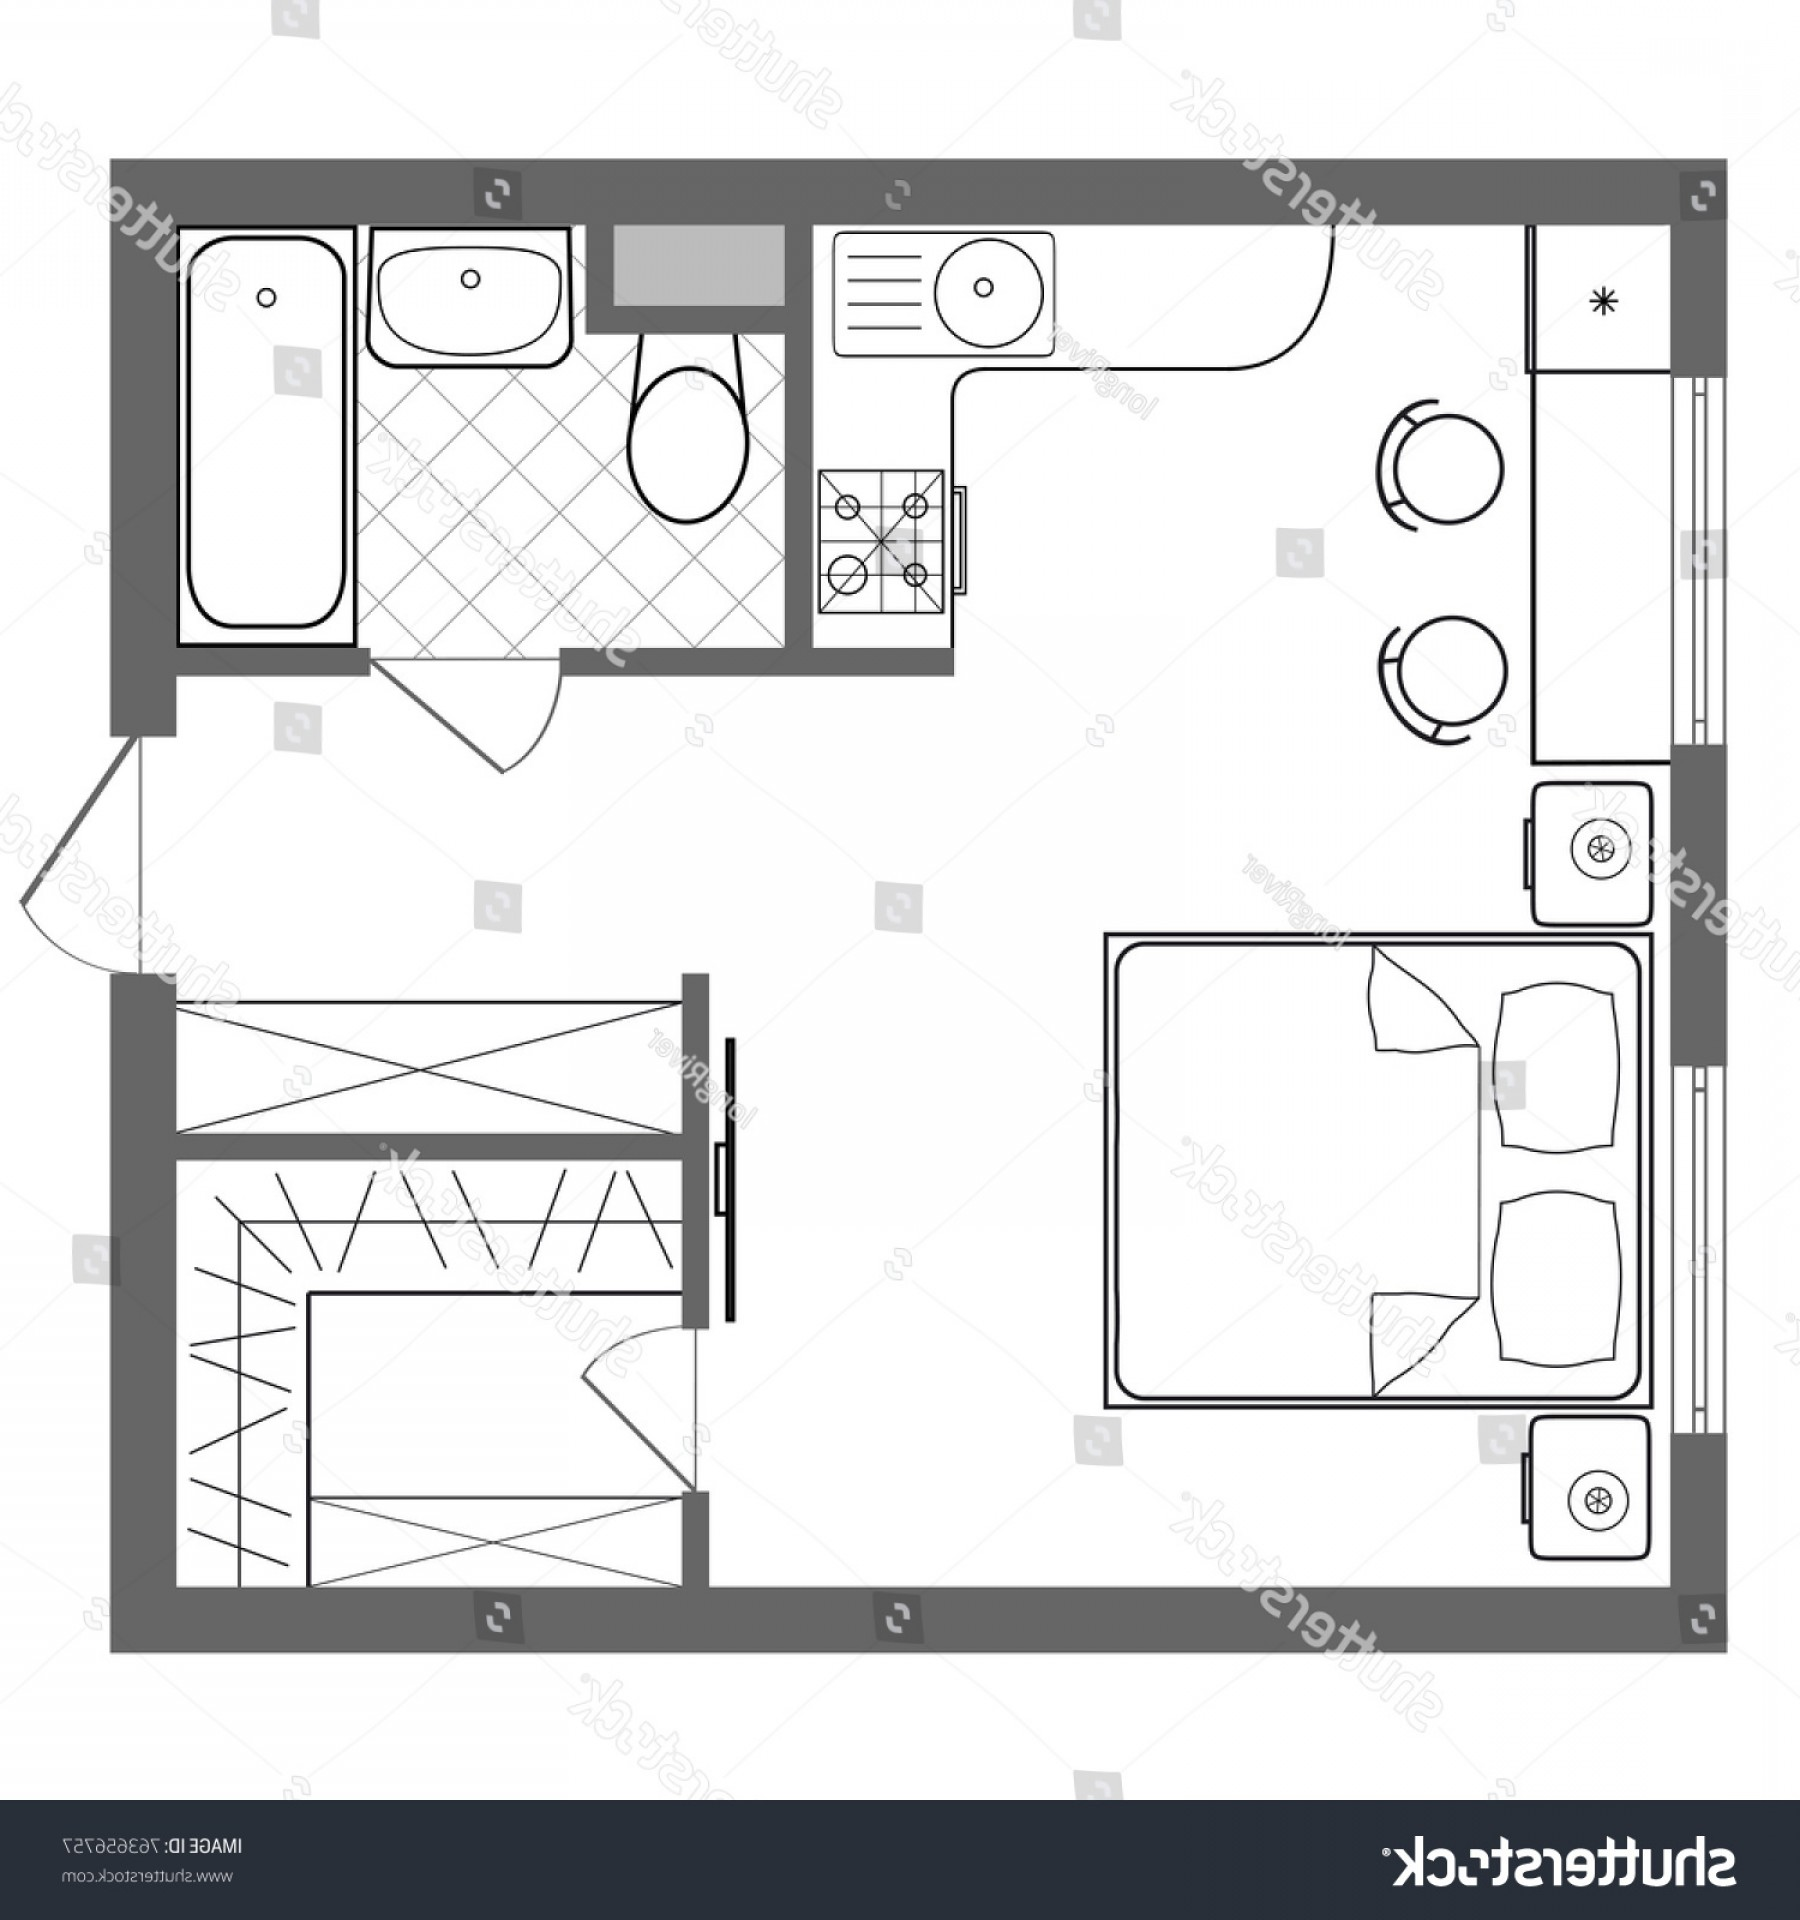room: (707, 748, 1722, 1654), (783, 157, 1719, 760), (107, 157, 814, 677), (95, 1122, 719, 1651), (103, 643, 727, 1154)
